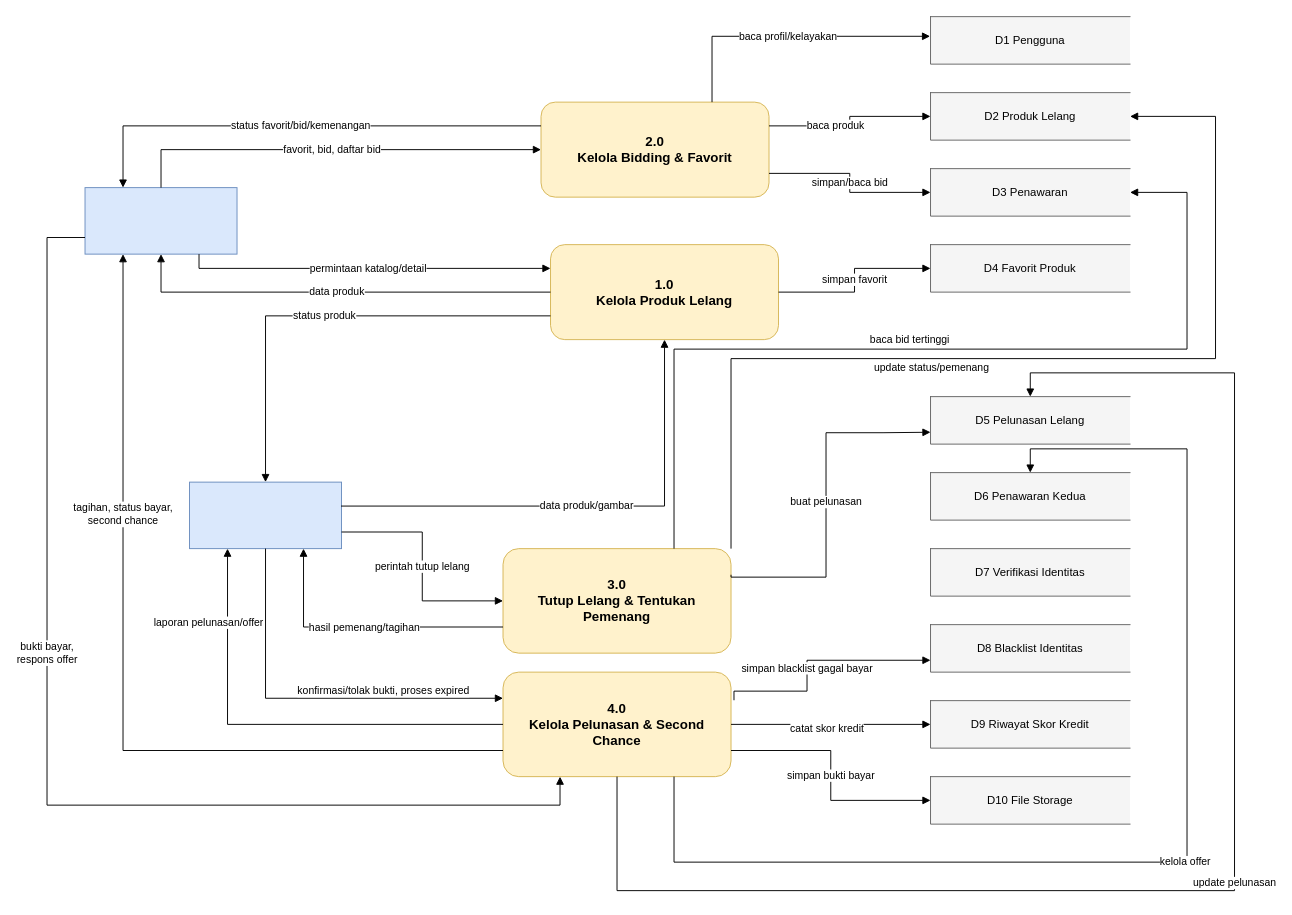
This 1292x915 diagram has some shape labels left out. Each missing label, with the box of its shape:
Admin: (189, 481, 342, 549)
Customer: (84, 187, 237, 254)
